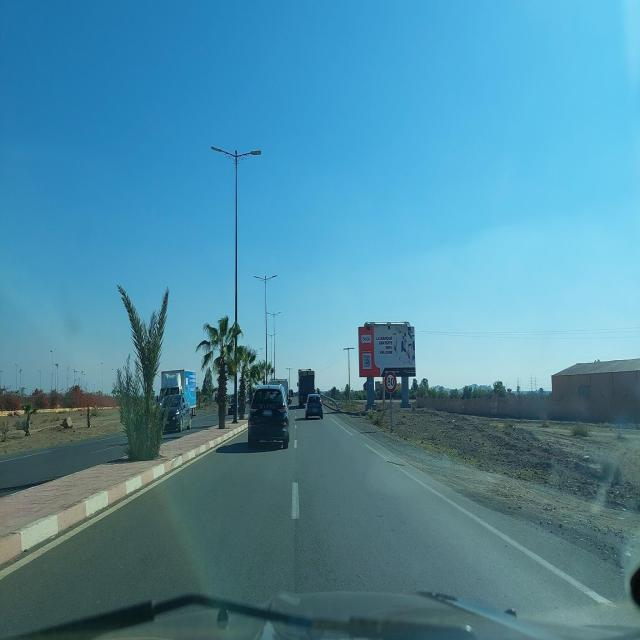car: (247, 383, 290, 450), (160, 390, 191, 435), (305, 392, 324, 421)
